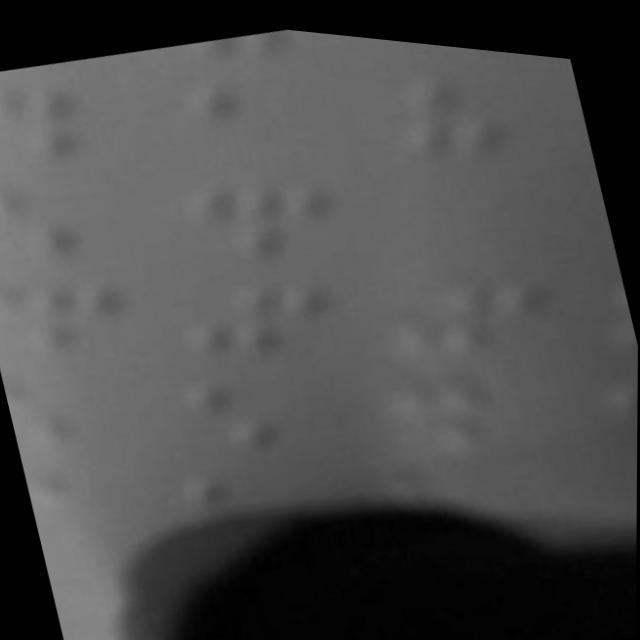braiile: (382, 251, 564, 381), (176, 148, 354, 276), (383, 337, 555, 465), (378, 42, 554, 167), (174, 257, 350, 380), (177, 56, 345, 179), (175, 349, 338, 470), (0, 49, 147, 181), (0, 256, 148, 383), (0, 158, 136, 281), (2, 347, 142, 461), (197, 16, 346, 85), (401, 33, 565, 65)
